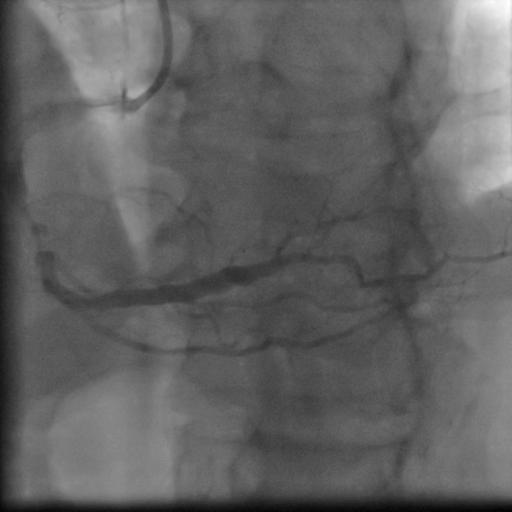Stenosis: (16, 206, 60, 264)
